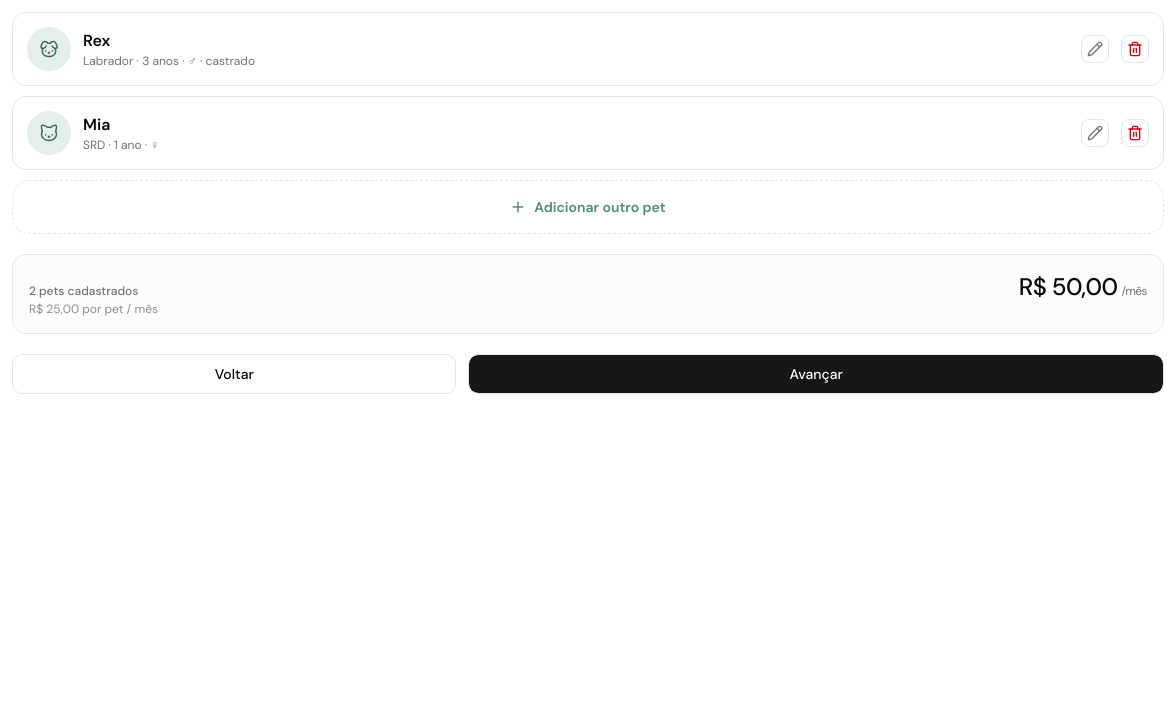
Scenario: StepPets › should load PetForm with existing data when Editar is clicked in State B
The width and height of the screenshot is (1176, 721).
Click the button named "Editar Rex" at (1095, 49), box [1081,35,1109,63]
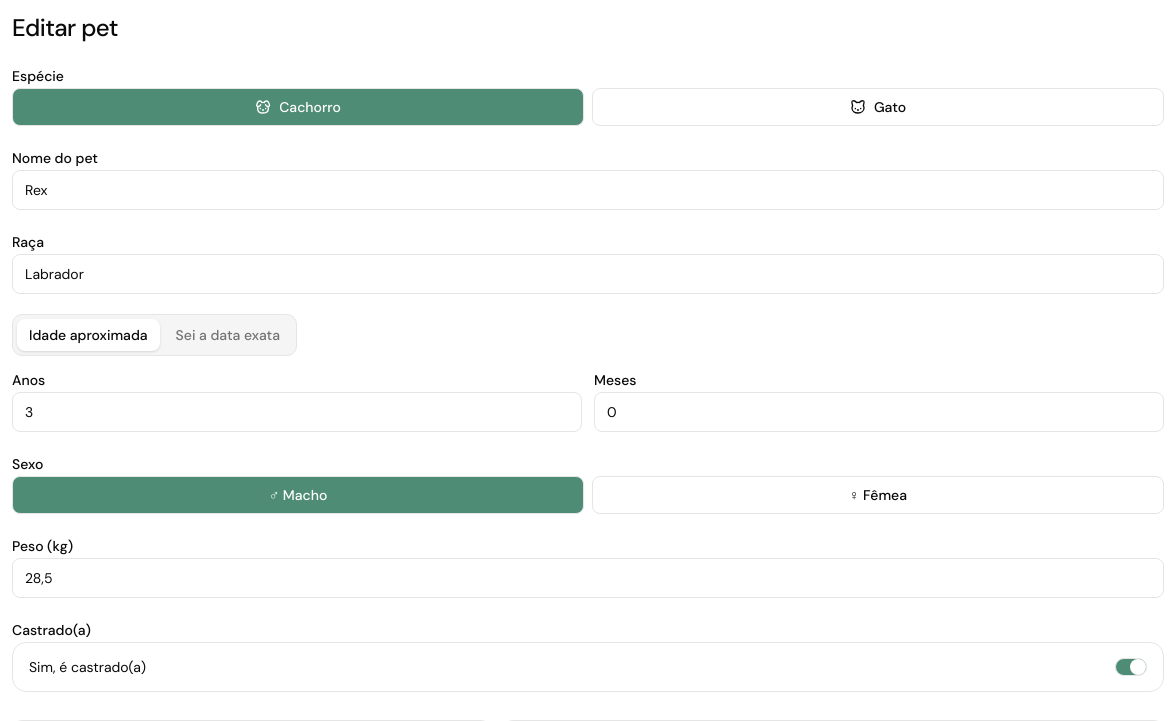
Expected: the heading "Editar pet" is shown, [12,12,118,43]
Expected: the field labelled "Nome do pet" holds "Rex", [12,170,1164,210]
Expected: the field labelled "Raça" holds "Labrador", [12,254,1164,294]
